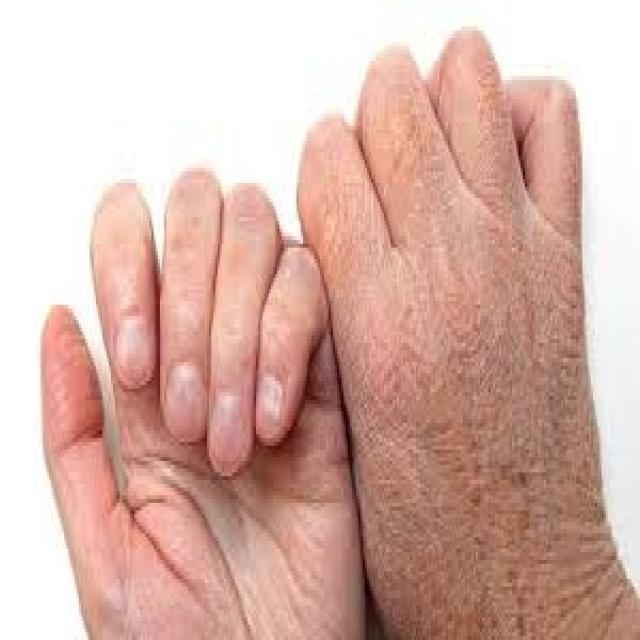dry: (381, 230, 574, 611)
